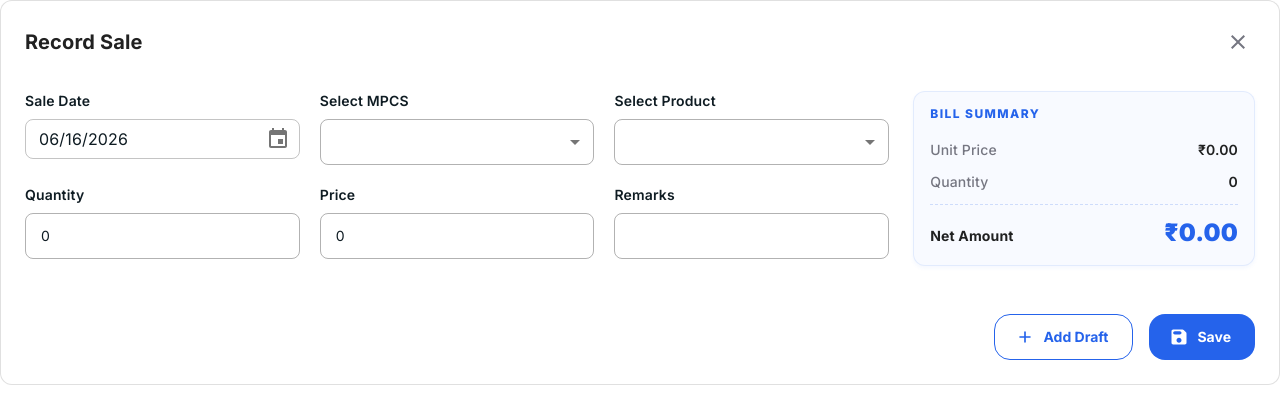
it: ProductSaleForm › calculates net amount correctly
The image size is (1280, 402).
Replace the text in the 1st number field named "quantity" with "2": (162, 236) [37, 213, 288, 259]
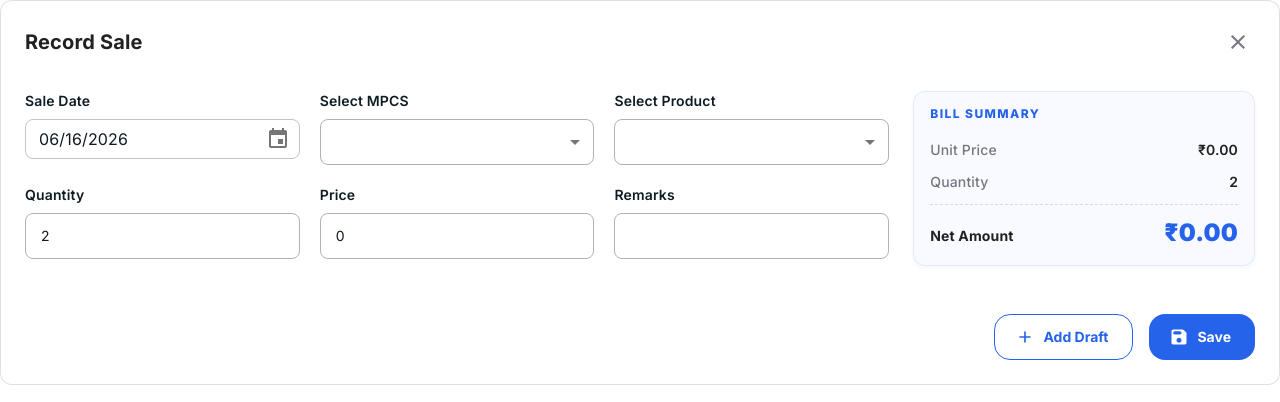
Replace the text in the 2nd number field named "price" with "1500": (457, 236) [332, 213, 582, 259]
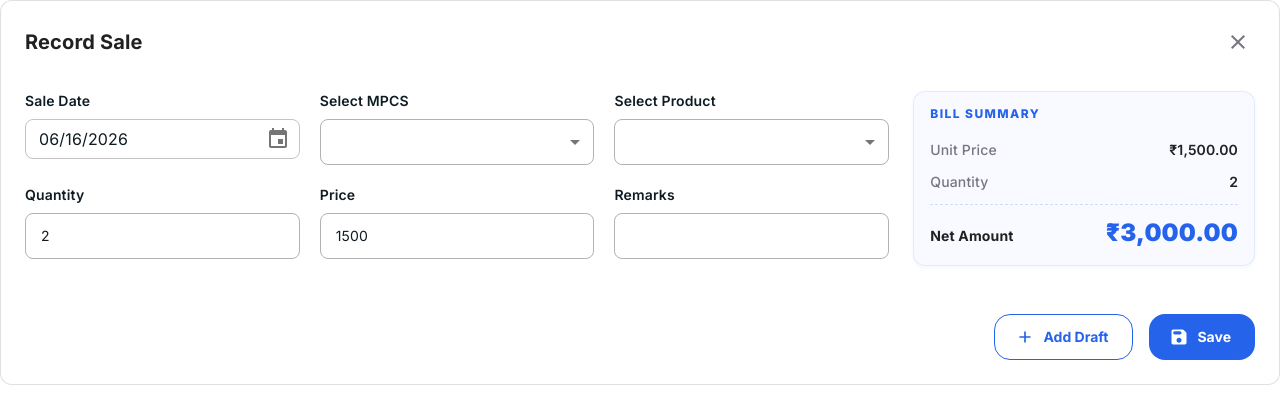
Expected: the heading "₹3,000.00" is shown, [1106, 217, 1238, 249]
